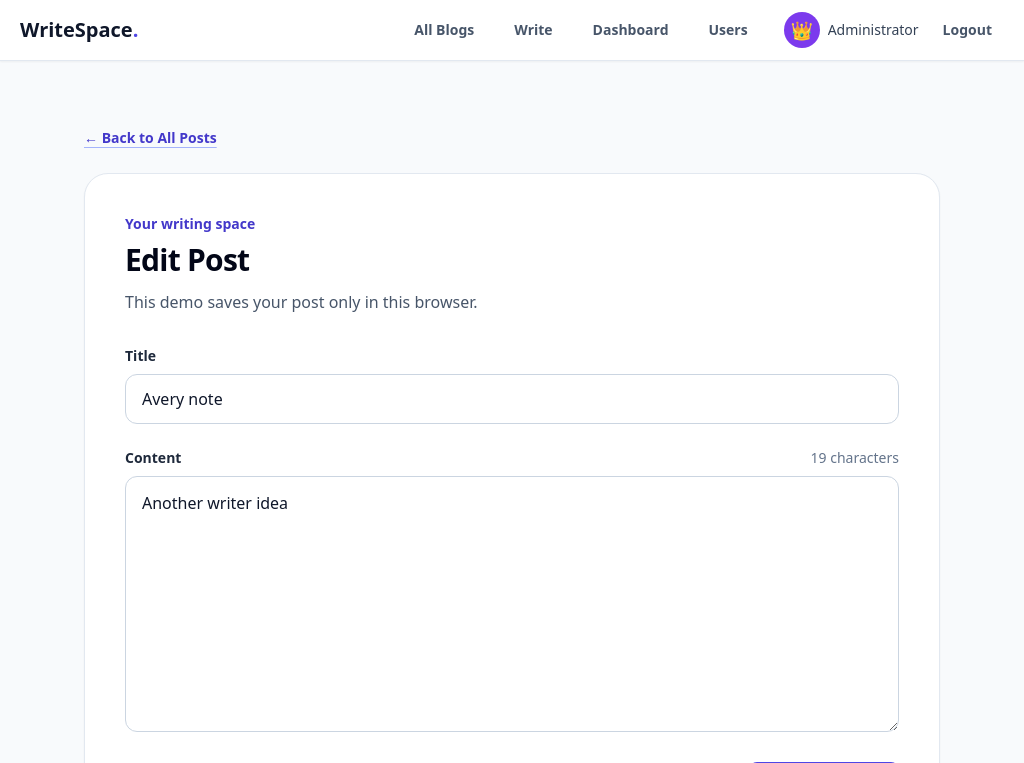
Test: writer blog pages › lets admin access other writers edits
Replace the text in the field labelled "Title" with "Admin revised" at point(512, 399), box [125,374,899,424]
(page scrolled)
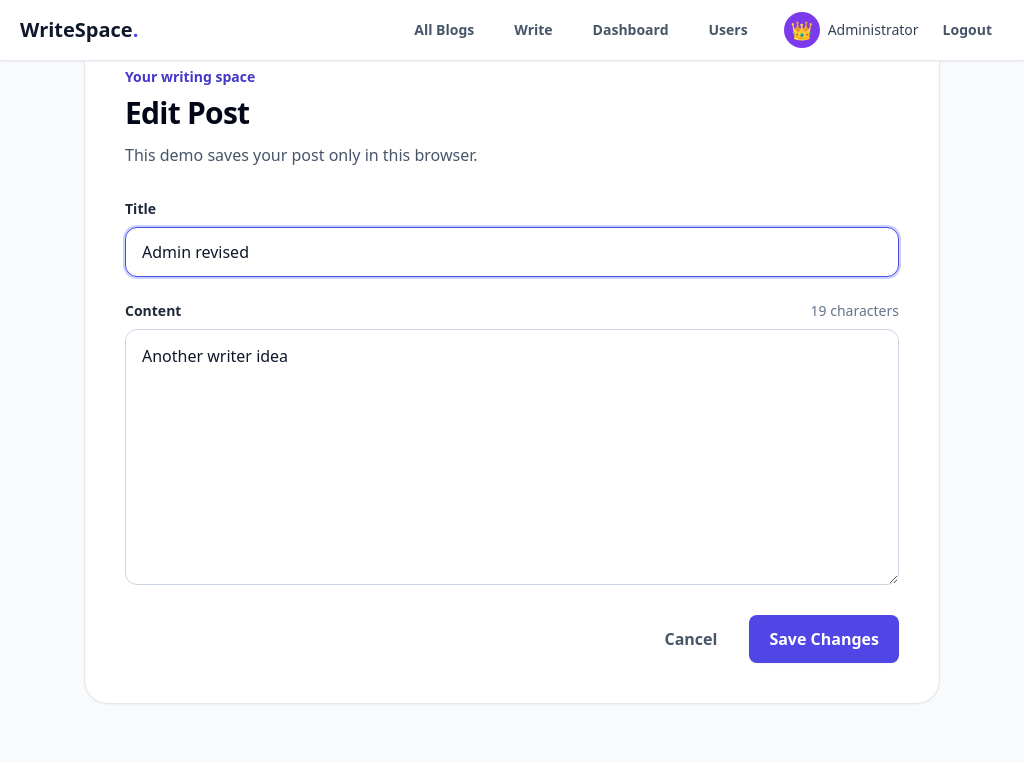
Click the button "Save Changes".
click(824, 639)  # box [749,615,899,663]
(page scrolled)
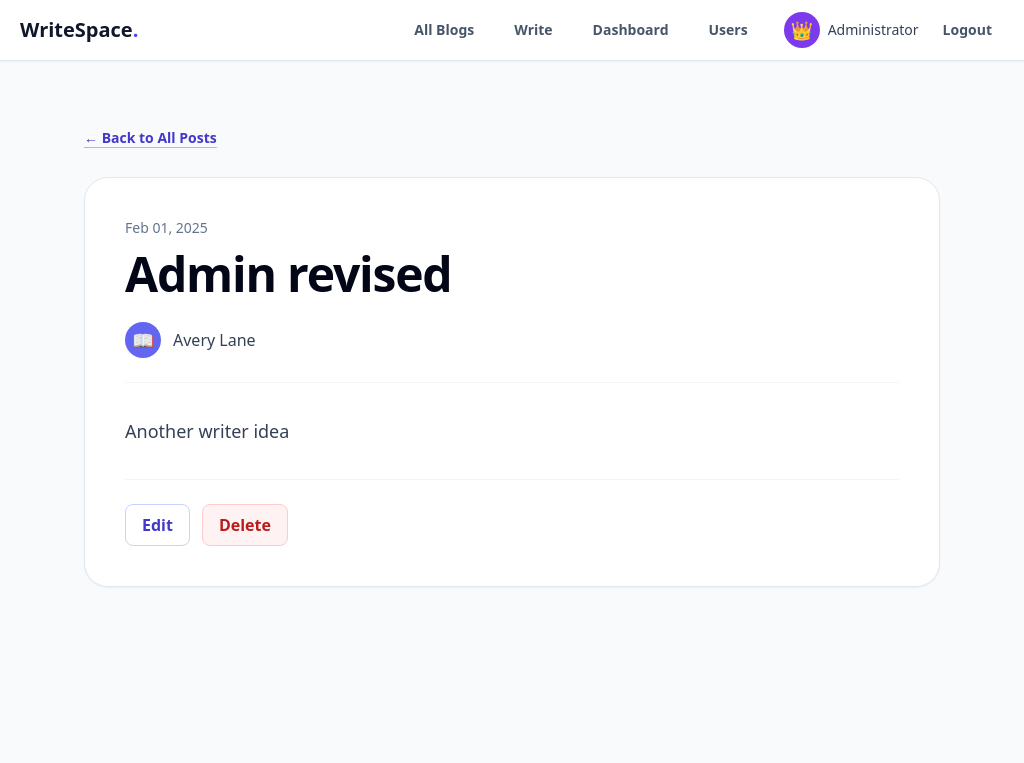
Expected: the heading "Admin revised" is shown, [125,241,452,306]
